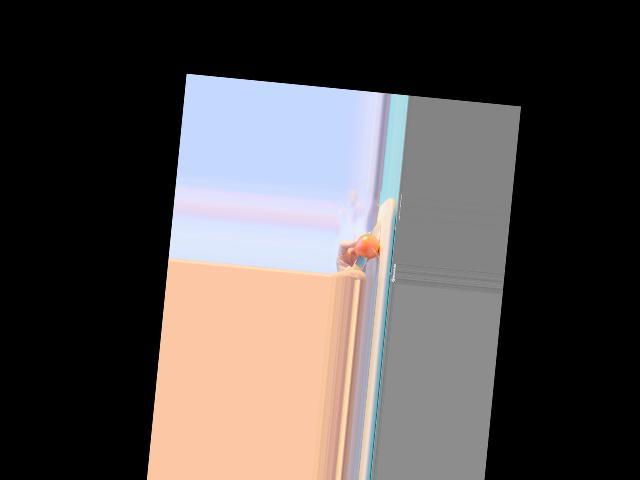tomato: (354, 232, 381, 260)
